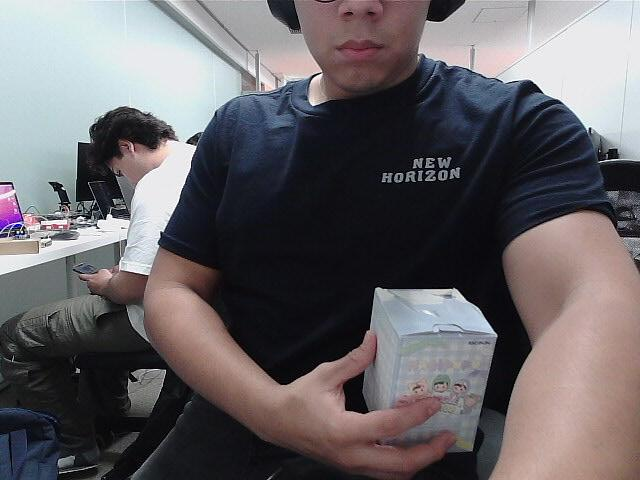Blind_box: (362, 280, 494, 470)
